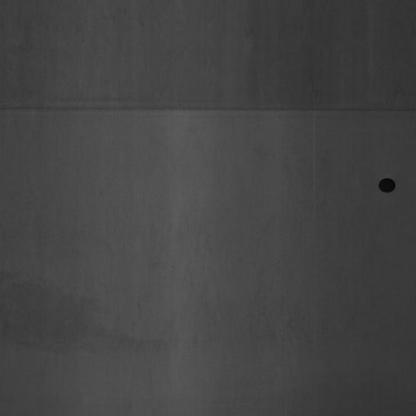punching_hole: (374, 164, 402, 200)
welding_line: (4, 98, 416, 134)
